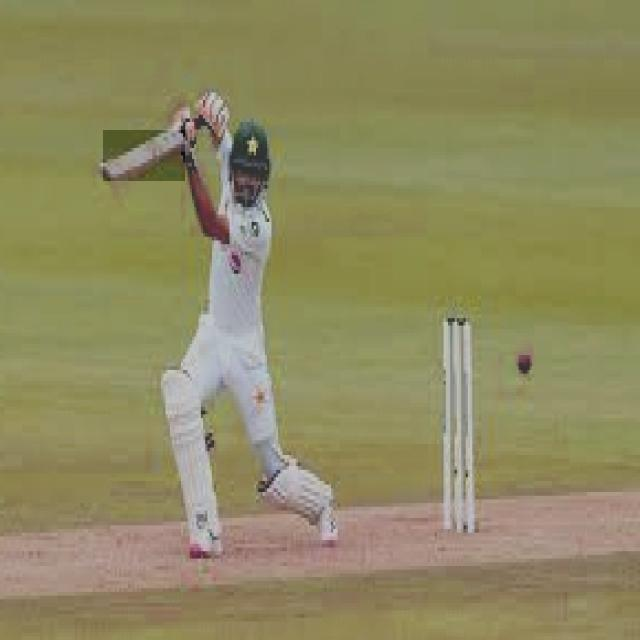bat: (97, 125, 185, 185)
toe: (96, 163, 126, 184)
